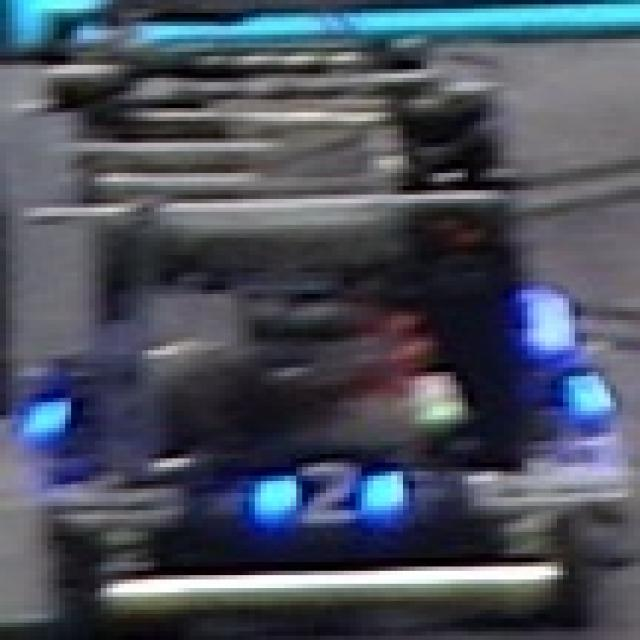B2: (243, 458, 409, 524)
